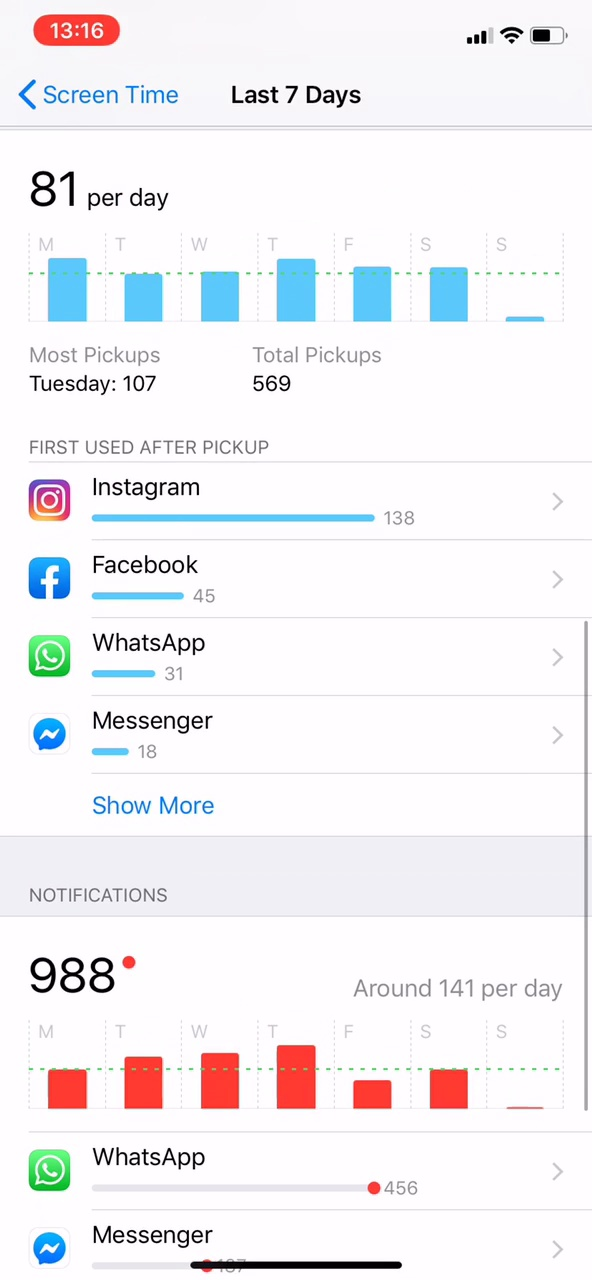not_app: (25, 1132, 467, 1210)
not_over: (18, 842, 217, 1008)
pick_app: (15, 463, 472, 541), (22, 703, 270, 767), (18, 628, 247, 689), (12, 550, 247, 608)
pick_over: (22, 335, 434, 413)
week: (217, 73, 384, 120)
